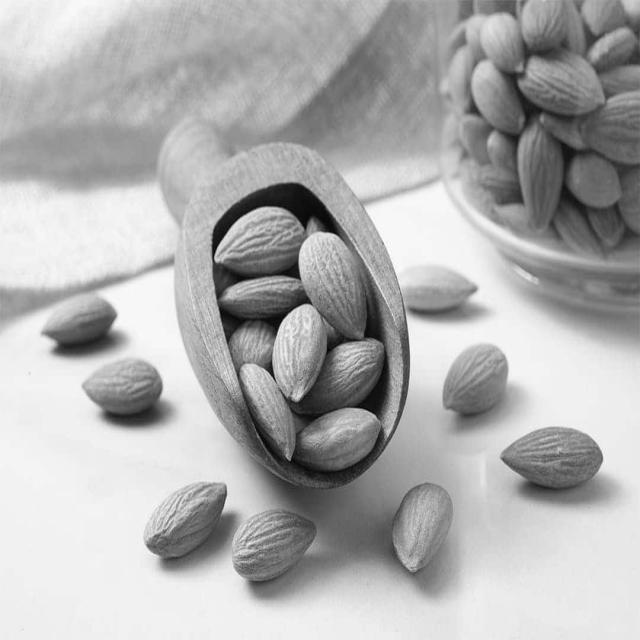Kayisi Cekirdegi: (299, 233, 365, 340), (141, 484, 223, 563), (233, 510, 316, 581), (396, 479, 456, 570), (294, 406, 381, 467), (306, 344, 383, 411), (234, 368, 293, 455), (502, 430, 604, 479), (79, 354, 161, 414), (444, 339, 508, 414), (401, 262, 477, 311), (41, 296, 116, 334)
